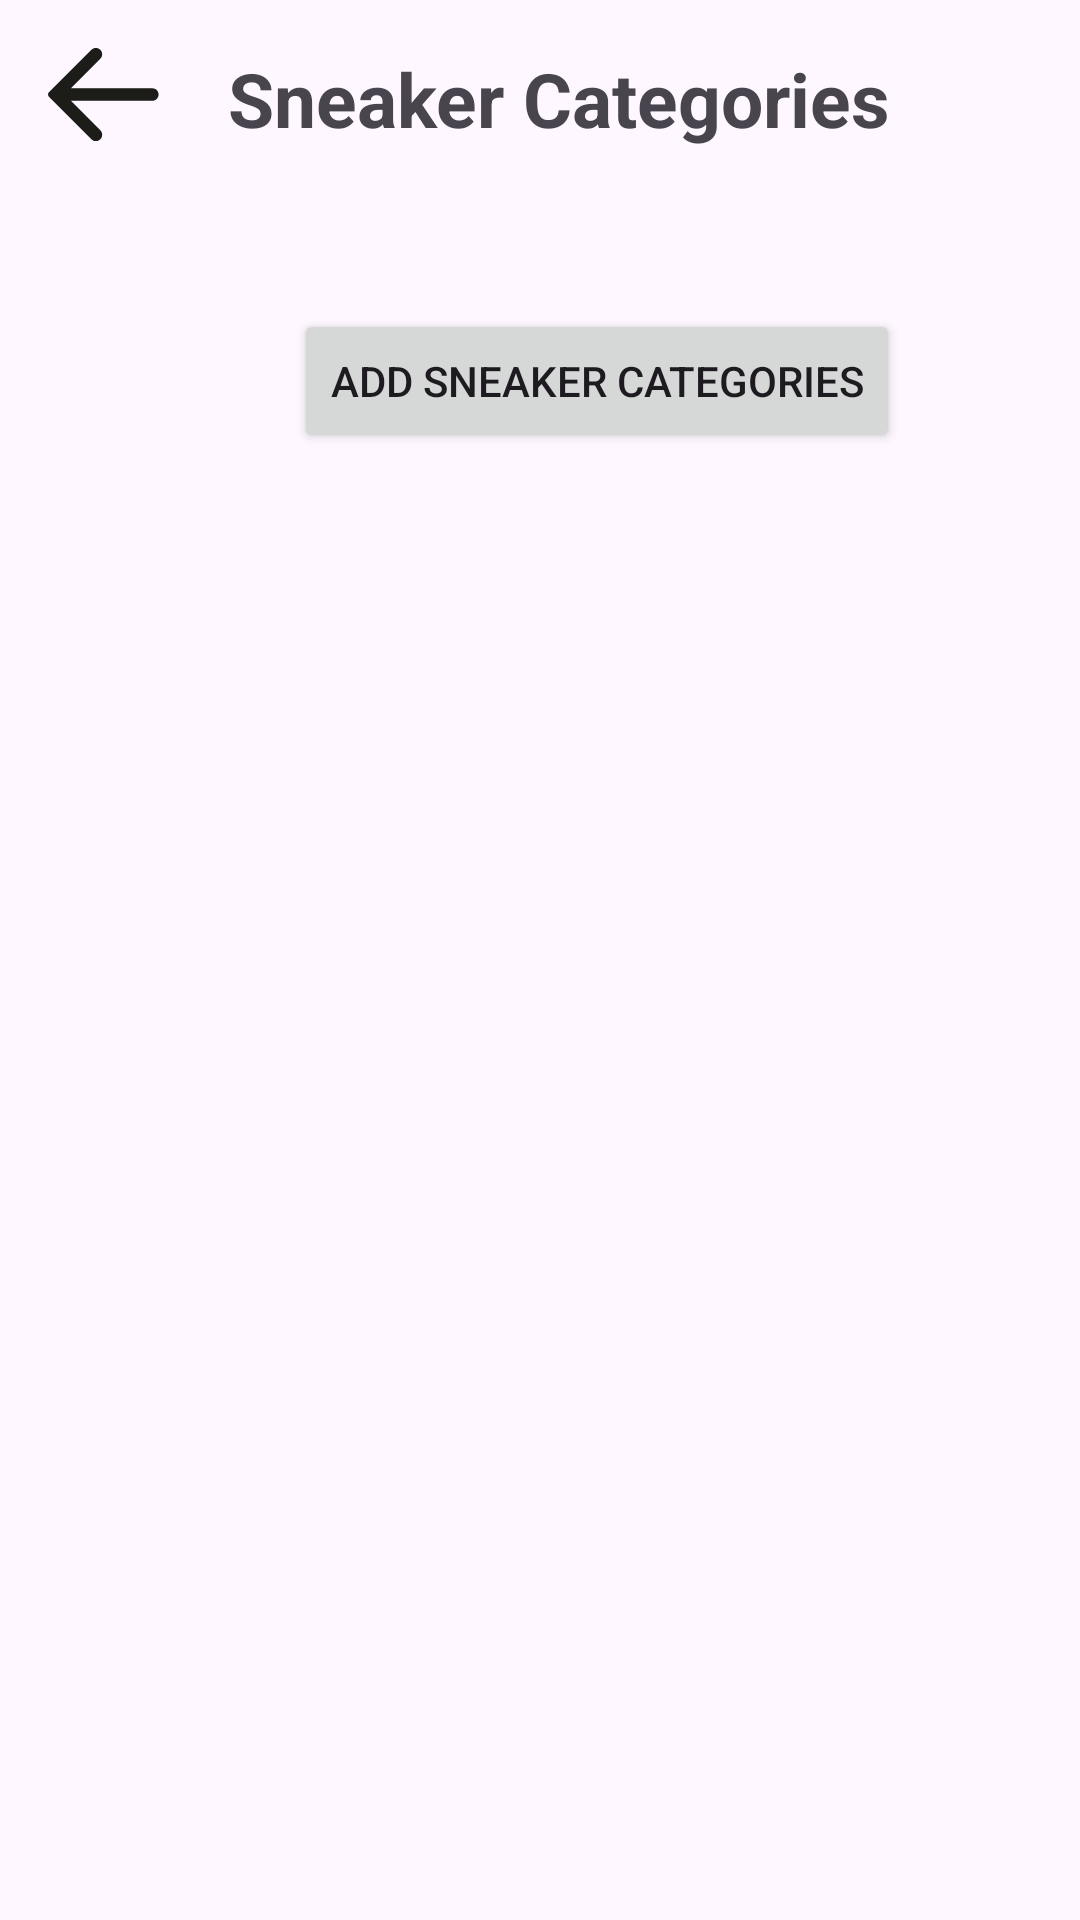

Point at icon controls on the screen. Image size 1080 × 1920, points as (x=x, y=y).
arrowleft: (x=103, y=94)
